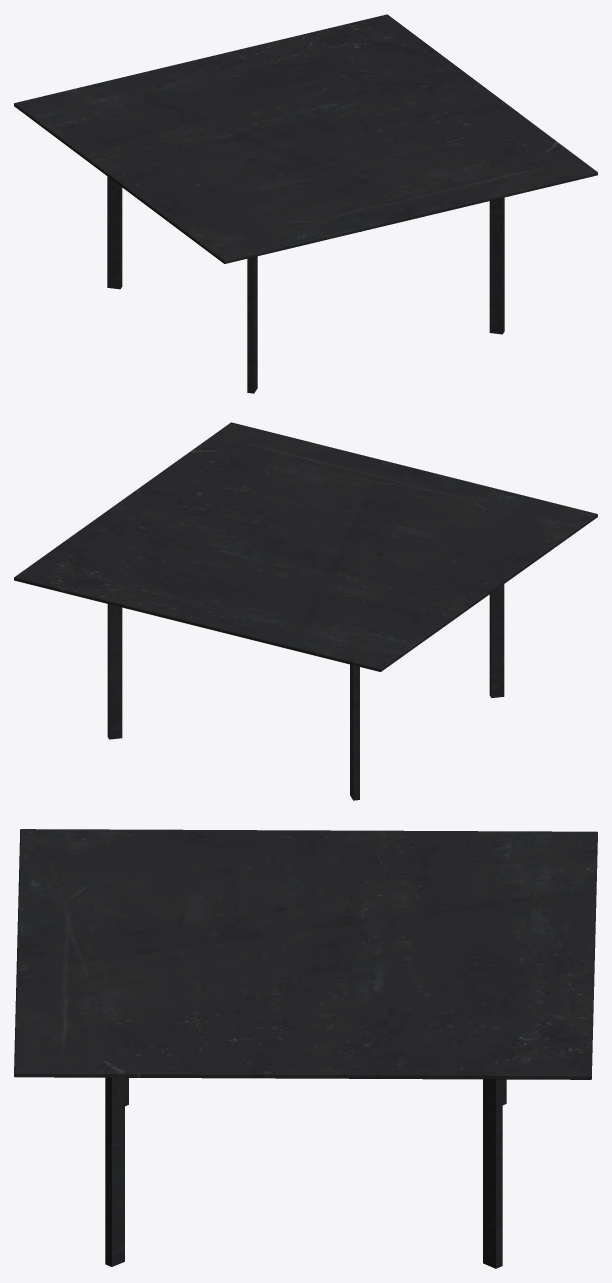
The model's file is barcelona-table.glb.
The picture shows the model from 3 angles, top to bottom: view 1: azimuth 30°, elevation 25°; view 2: azimuth 150°, elevation 25°; view 3: azimuth 270°, elevation 25°; orthographic projection. The views are drawn at different scales.
Visible parts, largest first — view 1: product; view 2: product; view 3: product.
Part boxes in pixels (bbox=[...]): product: bbox=[14, 14, 597, 393]; product: bbox=[14, 422, 597, 800]; product: bbox=[14, 829, 597, 1268].
Size of the model in its own units: 1 by 0.4382 by 1.
Materials: 1 (1 with a texture image).
